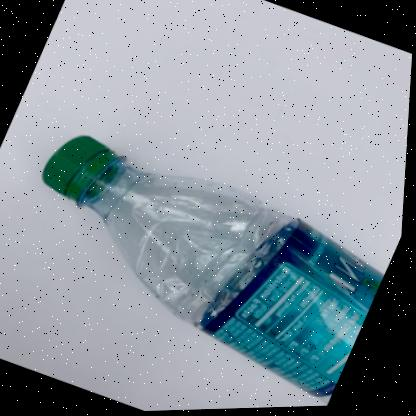Plastic: (44, 135, 387, 406)
